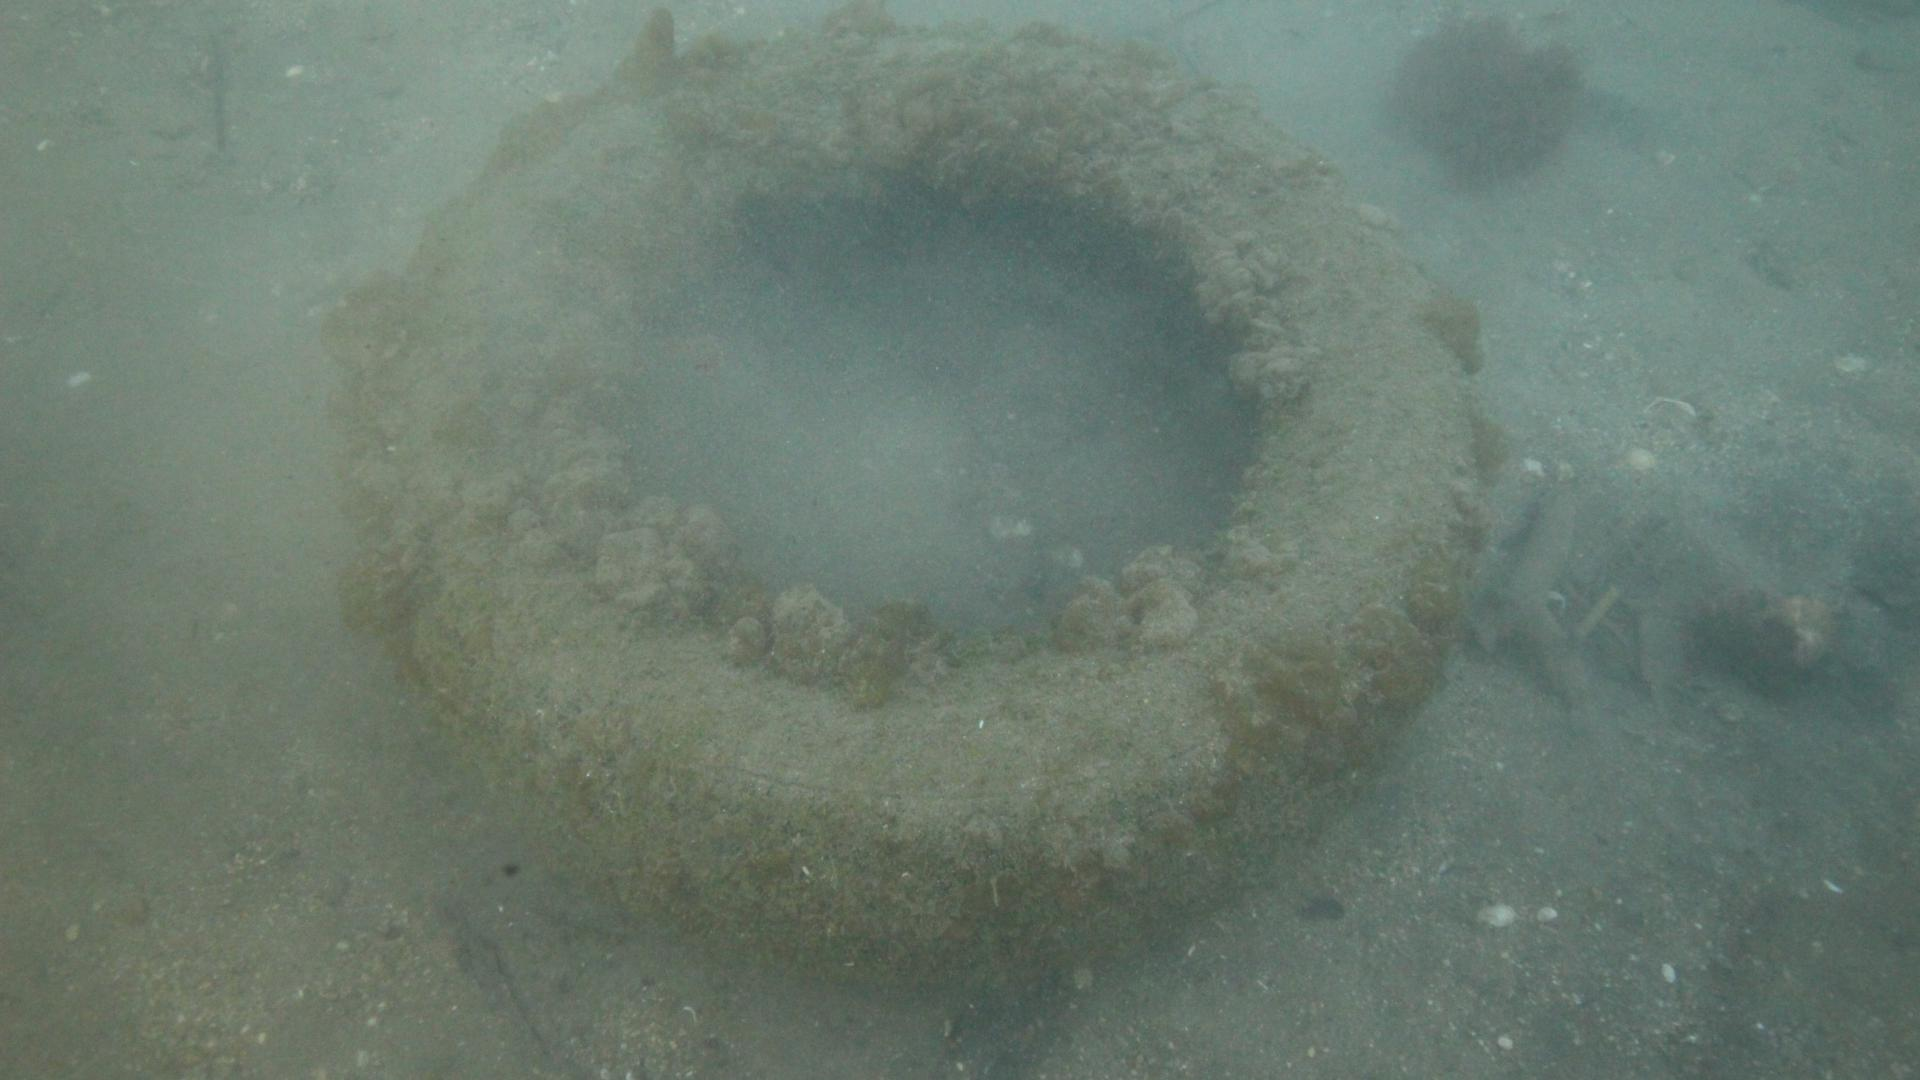tire: (380, 26, 1480, 988)
